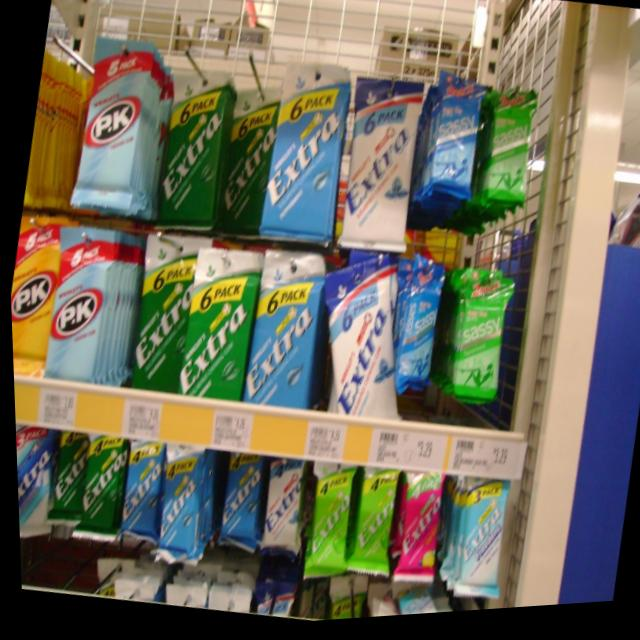q94: (324, 69, 435, 273), (300, 253, 413, 425), (246, 449, 313, 570)
